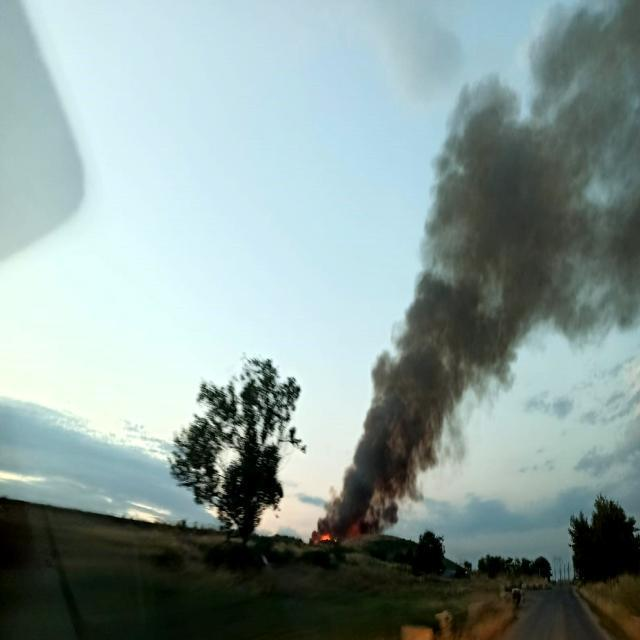Smoke: (315, 0, 640, 532)
